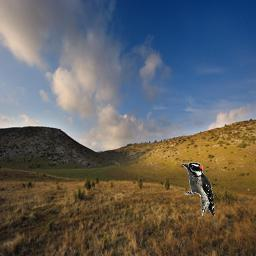Woodpecker: (181, 162, 215, 216)
